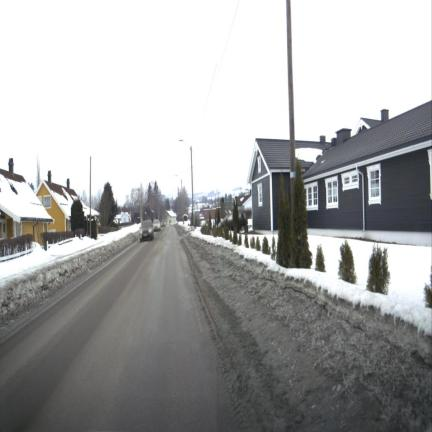Road: (0, 228, 232, 430)
